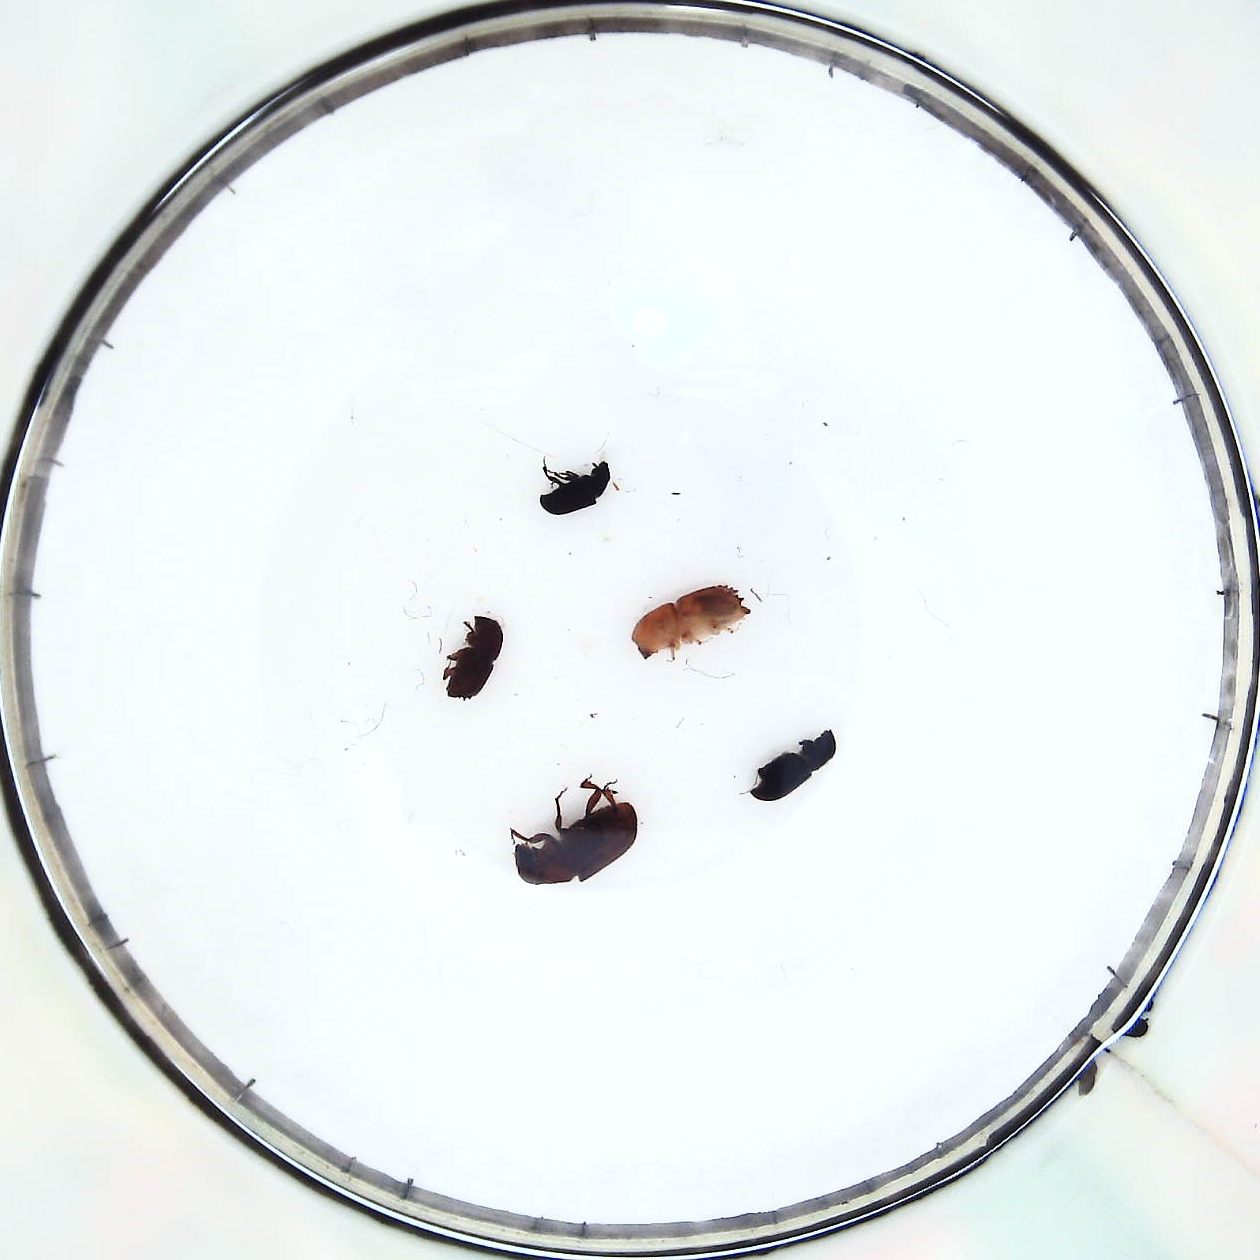Boerner: (632, 578, 750, 666)
Leconte: (513, 796, 640, 888)
Linnaeus: (438, 613, 505, 703)
armandi: (750, 728, 838, 807)
coleoptera: (534, 458, 616, 515)
